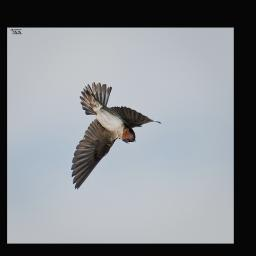Swallow: (70, 79, 162, 192)
